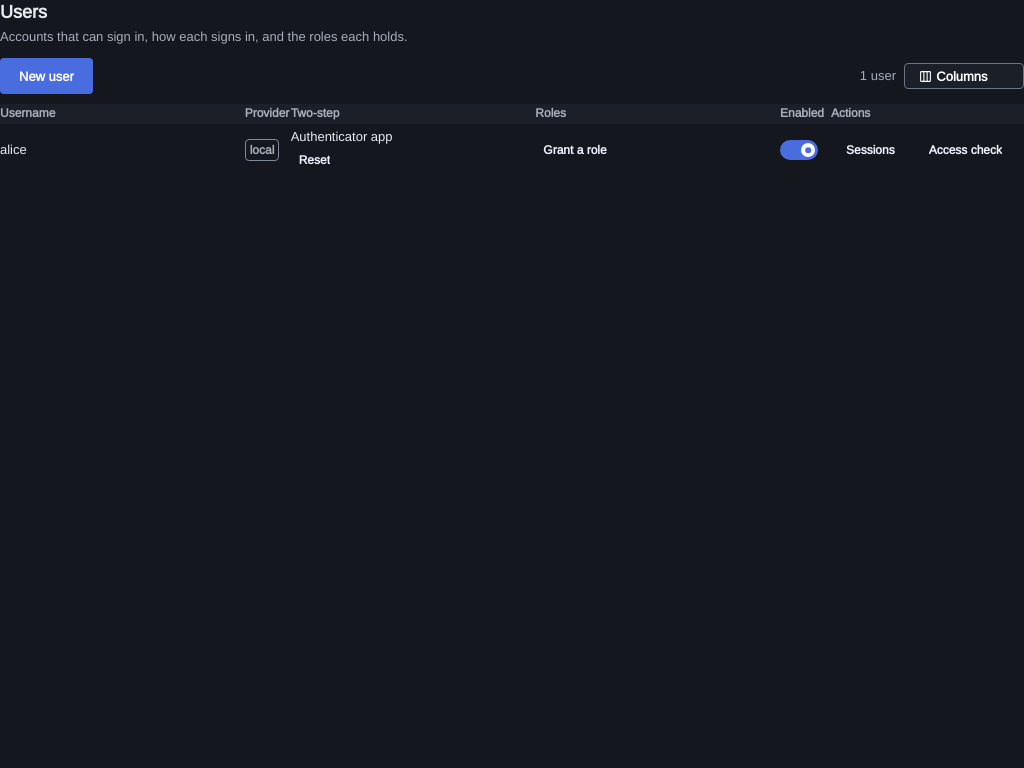
Test: UsersPanel two-step verification › asks for a fresh sign-in inside the dialog when the server says so
Click the button with aria-label "Reset two-step verification of alice": click(314, 160) [291,148,338,172]
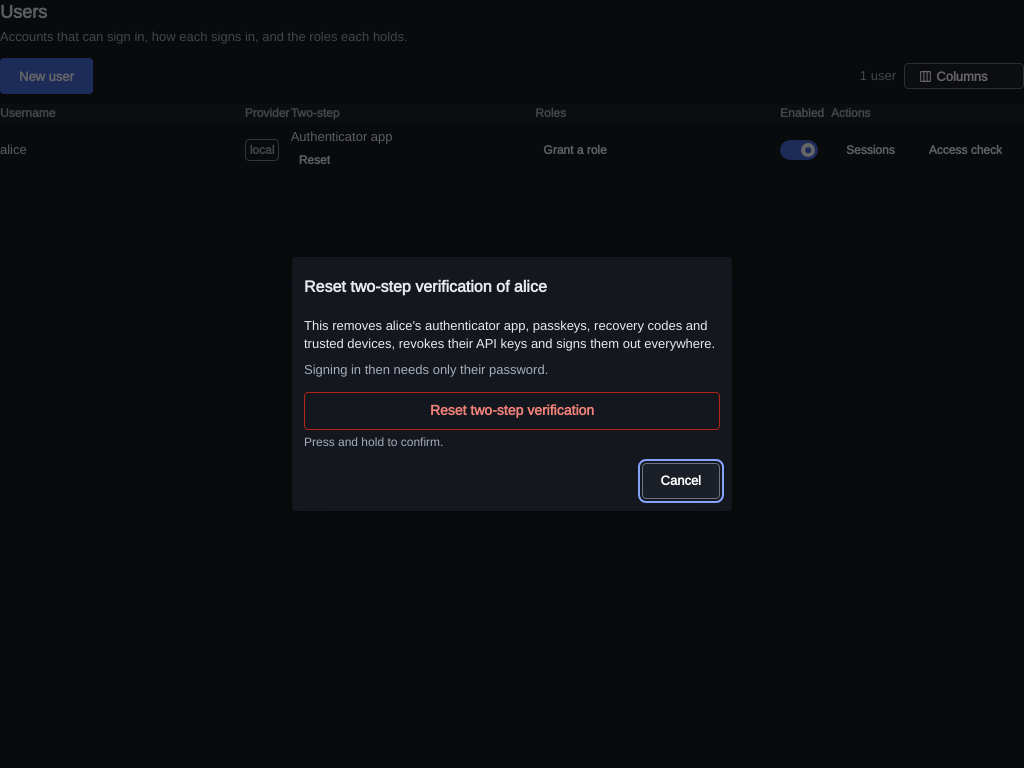
Press the mouse on the button "Reset two-step verification": (512, 411) [304,392,720,430]
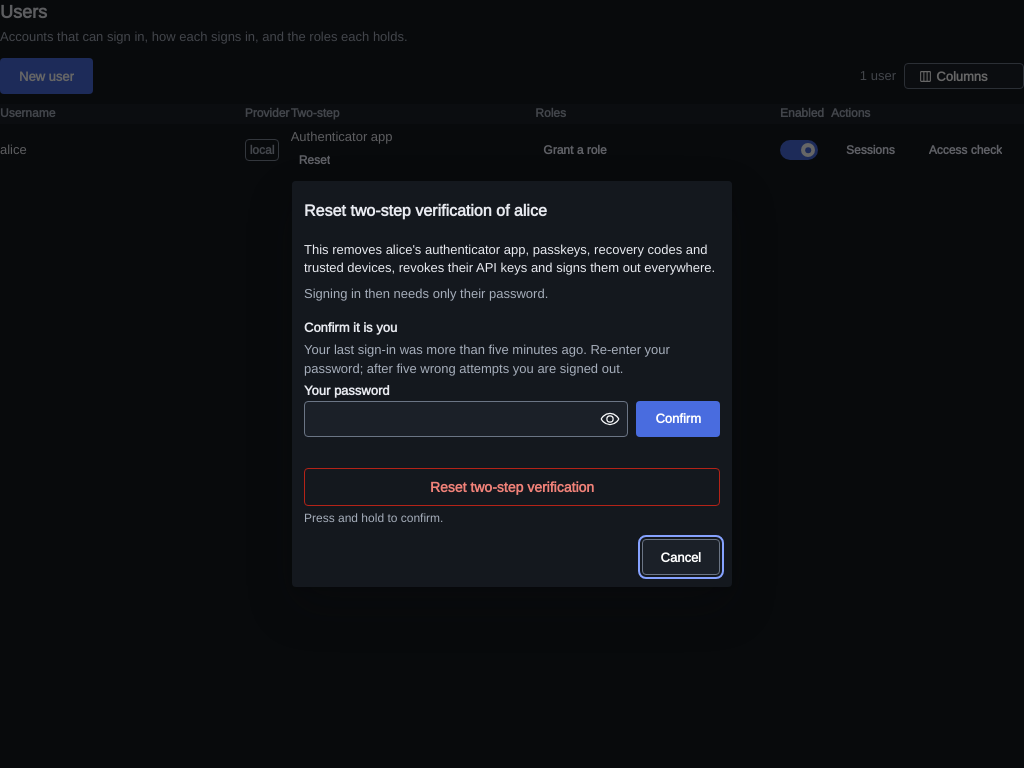
Check: the password field labelled "Your password" is shown, box [305,402,628,436]
